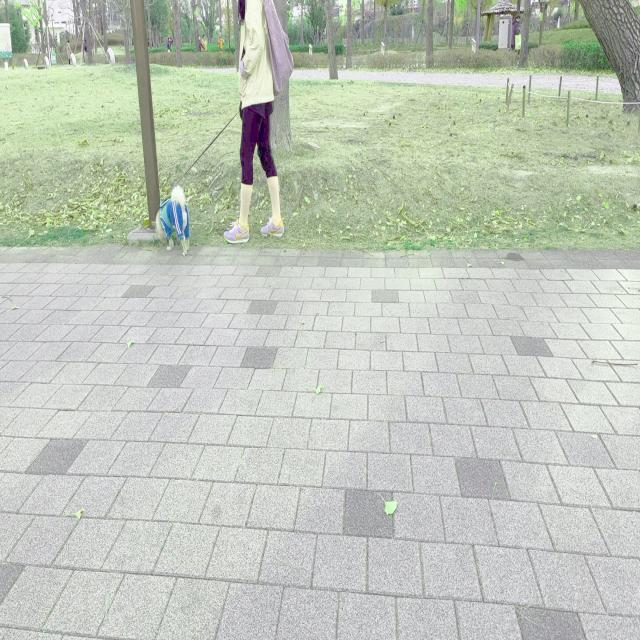Leashed_Dog: (154, 101, 256, 257)
